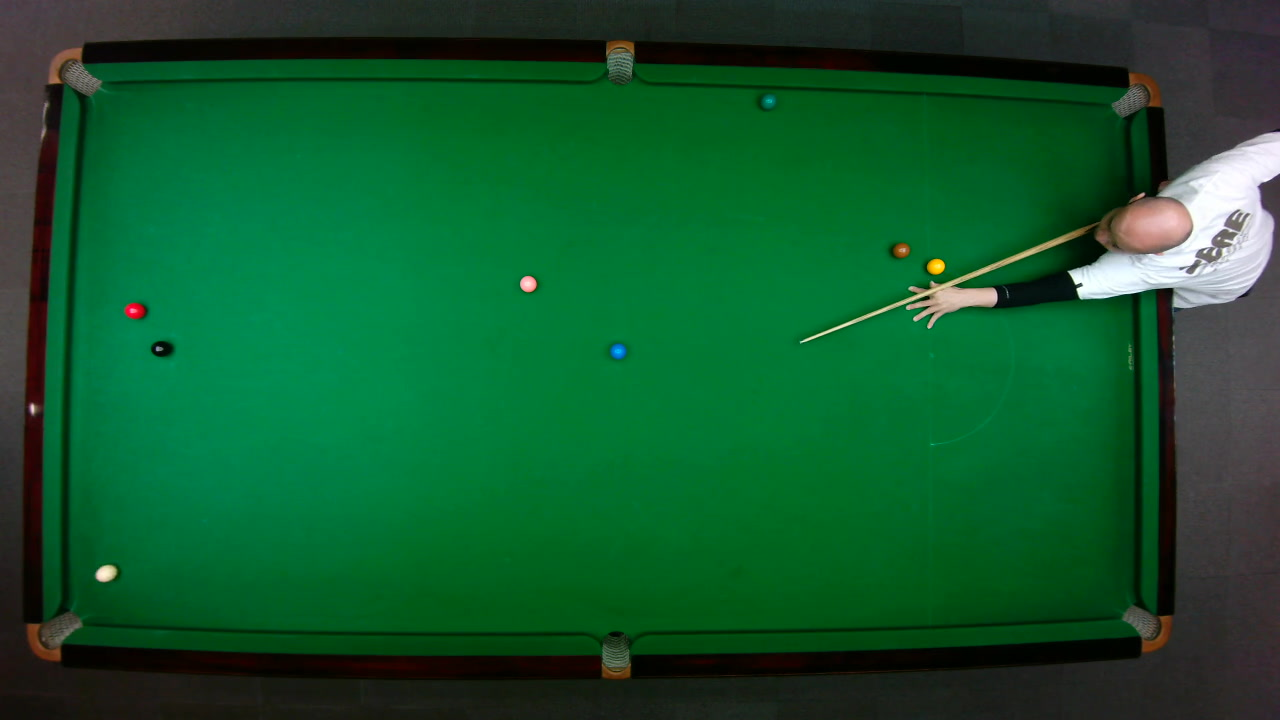bag: (25, 609, 83, 662), (45, 46, 102, 96), (1119, 603, 1172, 652), (1108, 71, 1162, 118), (600, 629, 629, 680), (605, 39, 633, 85)
black: (149, 339, 171, 357)
blue: (608, 342, 626, 359)
brown: (890, 241, 910, 258)
cue: (797, 217, 1114, 345)
green: (758, 92, 776, 110)
pink: (518, 274, 537, 293)
red: (123, 301, 146, 319)
white: (93, 562, 119, 581)
yellow: (925, 257, 945, 274)
zone: (926, 264, 1014, 446)
